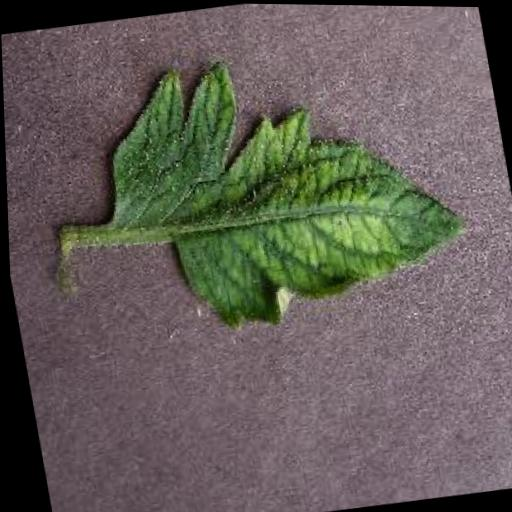Mosaic Virus: (82, 23, 487, 348)
